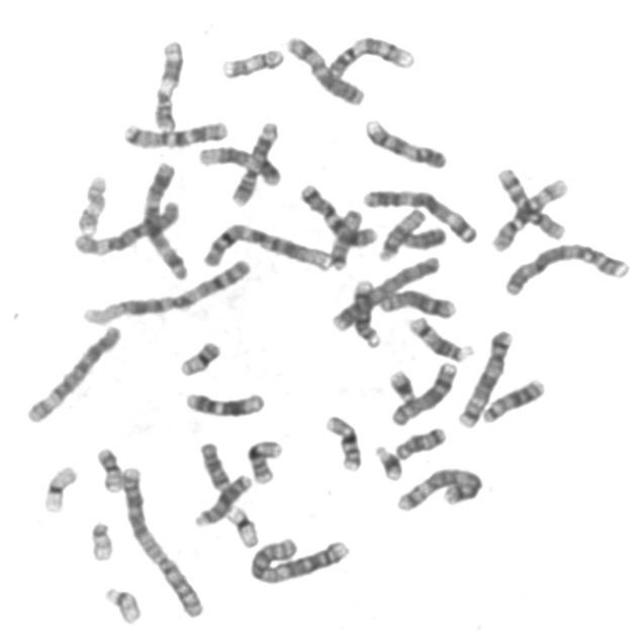A1: (79, 251, 257, 327), (199, 217, 336, 273)
A2: (115, 460, 208, 620), (245, 529, 356, 586)
A3: (358, 182, 482, 246), (138, 155, 192, 282)
B4: (326, 249, 445, 334), (499, 236, 634, 298)
B5: (454, 323, 517, 429), (392, 461, 488, 514)
C10: (488, 171, 572, 252), (492, 161, 570, 242)
C11: (228, 115, 283, 208), (149, 34, 188, 132)
C12: (194, 140, 285, 188), (180, 384, 270, 419)
C6: (21, 318, 124, 425), (69, 195, 183, 258)
C7: (296, 178, 381, 247), (120, 114, 232, 150)
C8: (387, 355, 460, 428), (376, 283, 460, 320)
C9: (361, 112, 451, 170), (322, 31, 420, 78)
D13: (190, 468, 256, 528), (477, 371, 549, 425)
D14: (404, 310, 476, 363), (348, 273, 385, 349)
D15: (373, 202, 429, 262), (328, 203, 366, 271)
E16: (321, 408, 367, 473), (243, 433, 287, 485)
E17: (216, 41, 288, 81), (72, 168, 111, 237)
E18: (391, 420, 450, 461), (195, 435, 236, 492)
F19: (38, 458, 82, 516), (222, 499, 263, 548)
F20: (175, 334, 224, 378), (92, 441, 128, 494)
G21: (384, 364, 421, 406), (370, 439, 406, 482)
G22: (99, 580, 146, 626), (85, 514, 118, 562)
X: (282, 29, 369, 107)
Y: (397, 221, 450, 250)
